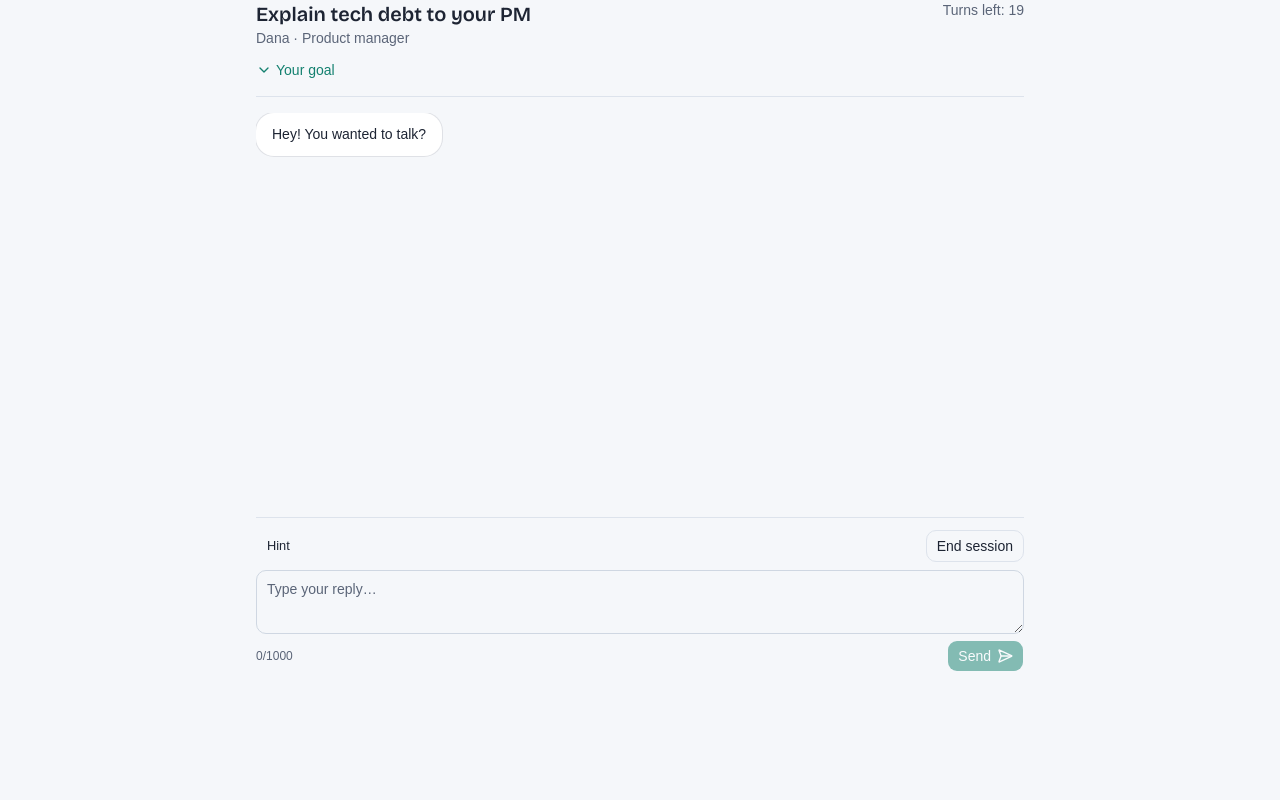
Test: SessionView › warns that a short session won't get a report before ending
Click the button "End session" at (975, 546), box [926, 530, 1024, 562]
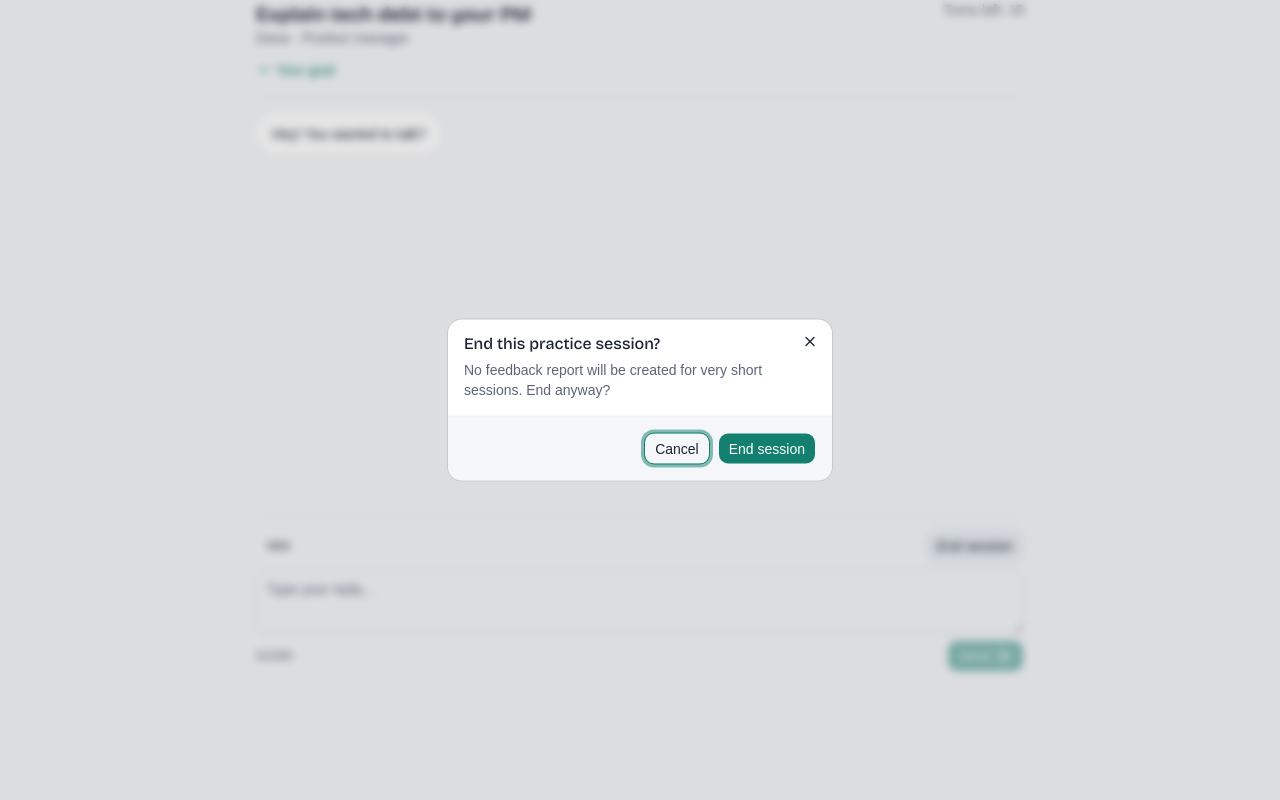
Check: the text "No feedback report will be created for very short sessions" is shown, box [464, 362, 762, 398]
